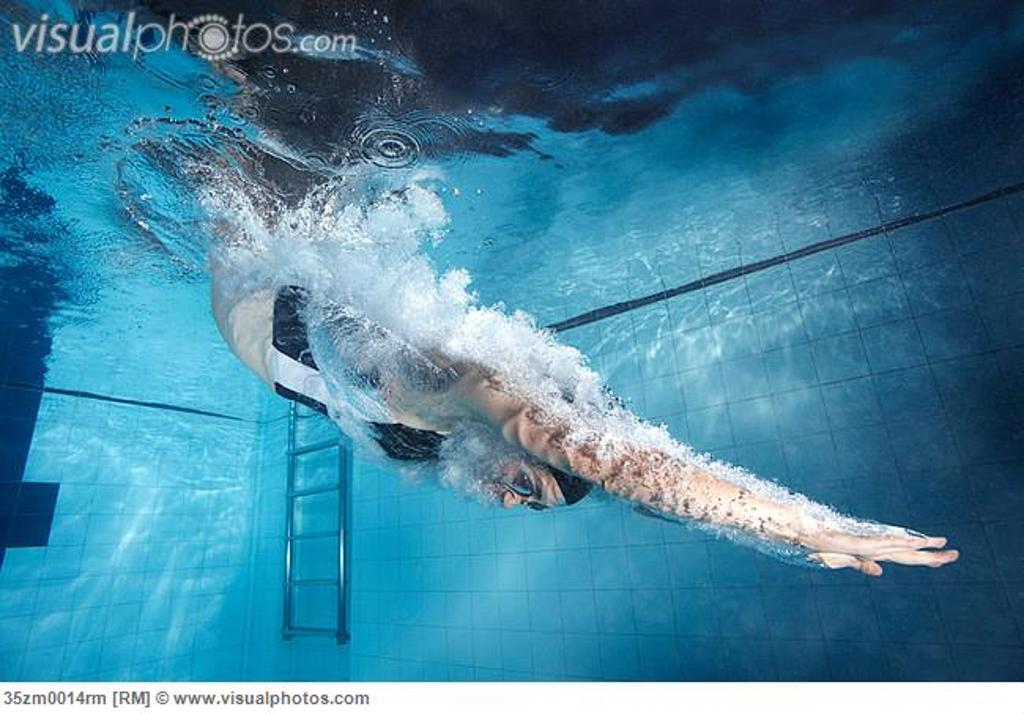face: (454, 442, 568, 518)
